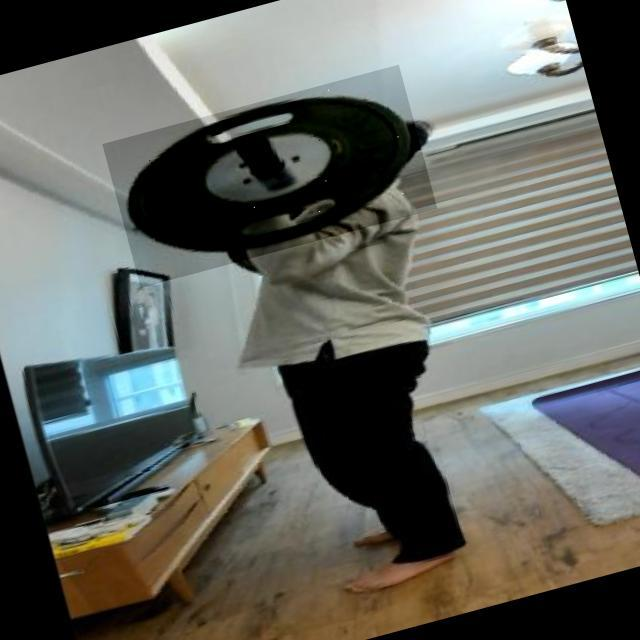barbell: (103, 65, 438, 288)
